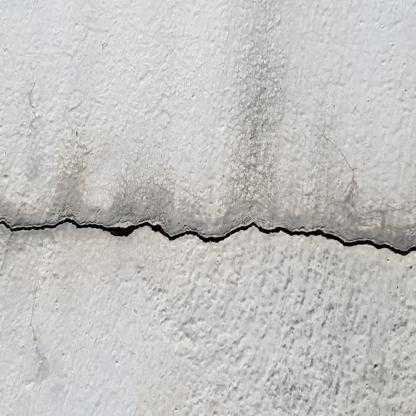crack: (0, 218, 416, 257)
